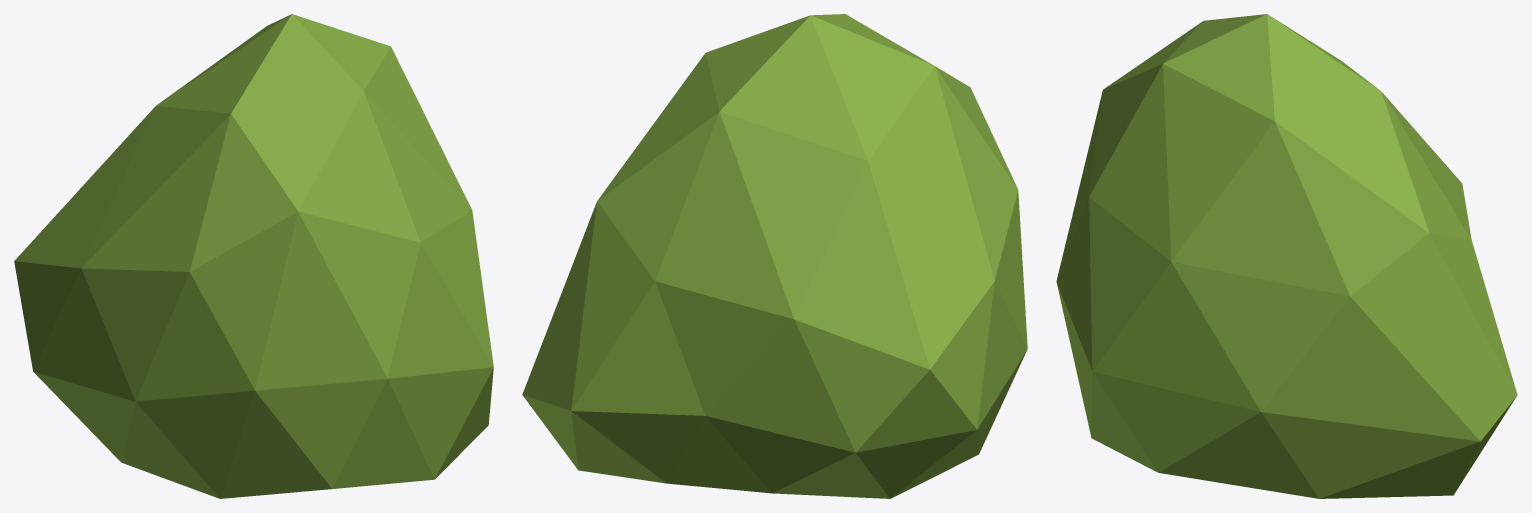
File: Bush_01.glb
3 renders of one model, left to right at view 1: azimuth 30°, elevation 25°; view 2: azimuth 150°, elevation 25°; view 3: azimuth 270°, elevation 25°, orthographic. The views are drawn at different scales.
Parts seen in each view (by area): view 1: Bush_01_LOD0; view 2: Bush_01_LOD0; view 3: Bush_01_LOD0.
Boxes of the visible parts, <box> form: Bush_01_LOD0: <box>14,14,493,498</box>; Bush_01_LOD0: <box>522,14,1027,498</box>; Bush_01_LOD0: <box>1056,14,1517,498</box>.
Size of what is drawn, in the model's own units: 0.682 by 0.7078 by 0.7053.
1 material, 1 textured.
